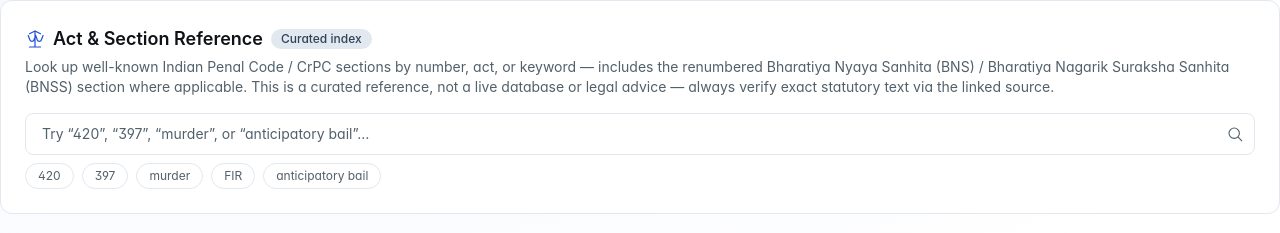
Test: ActSearch › shows a no-results message for a query that matches nothing
The image size is (1280, 233).
Step 1. Type "zzz-nonexistent" into the field with placeholder "Try “420”, “397”, “murder”, or “anticipatory bail”…" → (640, 134), box top-left (25, 113), bottom-right (1255, 155)
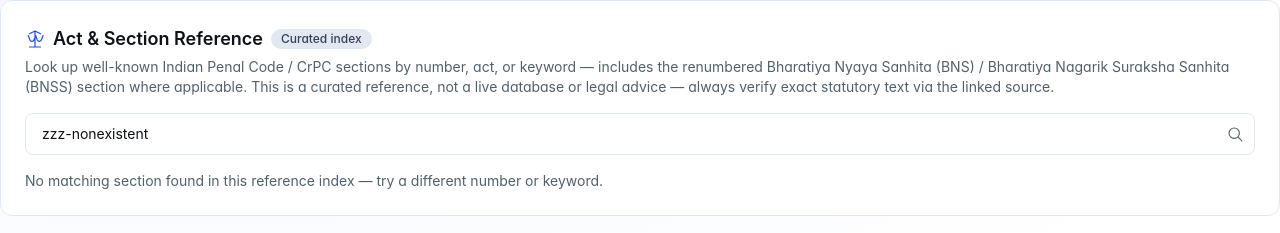
Check: the text "No matching section" is shown, box top-left (25, 172), bottom-right (603, 189)
